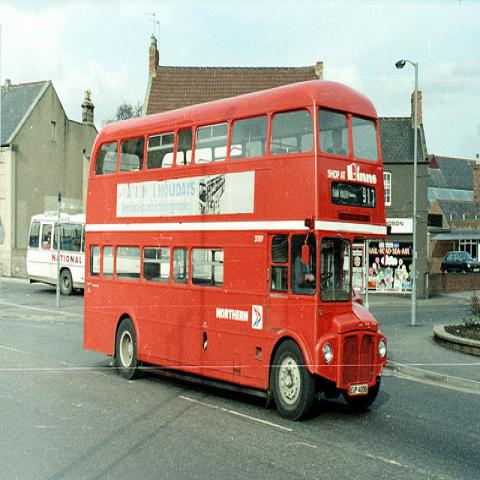bus: (83, 81, 393, 420)
car: (441, 253, 480, 273)
